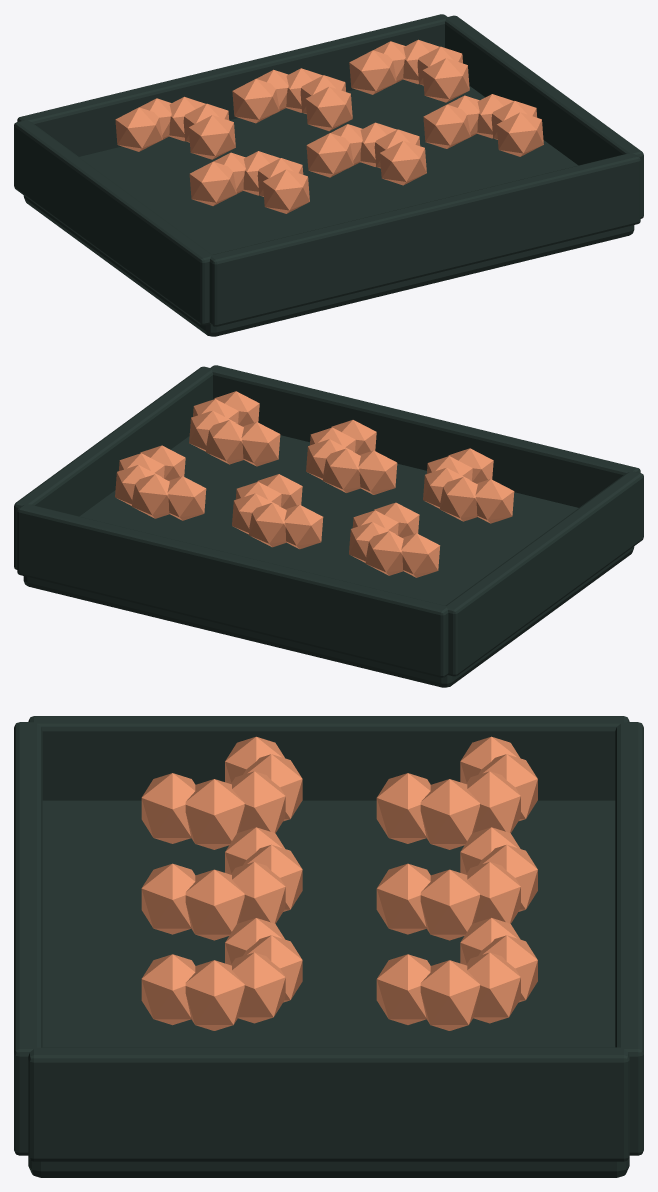
The model's file is shrimp.fbx.
The picture shows the model from 3 angles, top to bottom: view 1: azimuth 30°, elevation 25°; view 2: azimuth 150°, elevation 25°; view 3: azimuth 270°, elevation 25°; orthographic projection. The views are drawn at different scales.
Parts seen in each view (by area): view 1: shrimp; view 2: shrimp; view 3: shrimp.
Part boxes in pixels (x1,y1,x2,y2): shrimp: (14, 14, 643, 336); shrimp: (14, 365, 643, 687); shrimp: (14, 716, 643, 1177).
Size of the model in its own units: 31.1 by 7.3 by 24.1.
